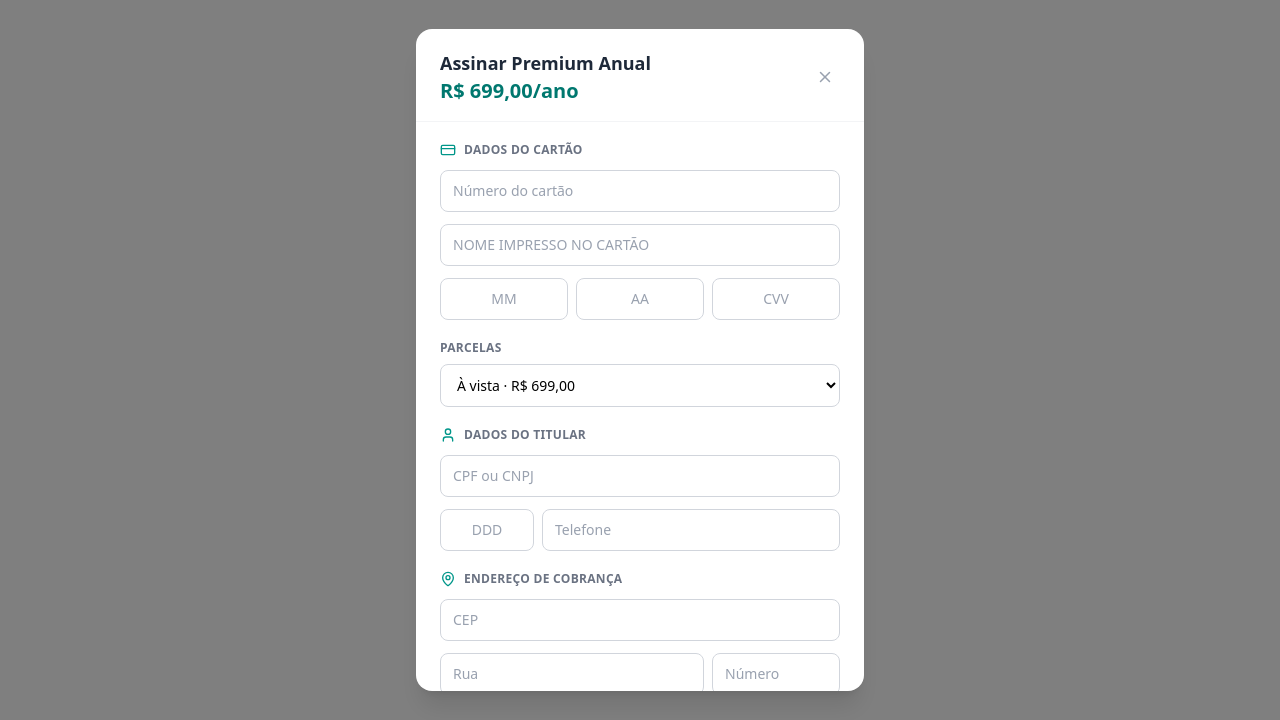
Test: Formulário de pagamento › CEP completo preenche o endereço sozinho
Type "01001000" into the field with placeholder "CEP" at (640, 620), box [440,599,840,641]
(page scrolled)
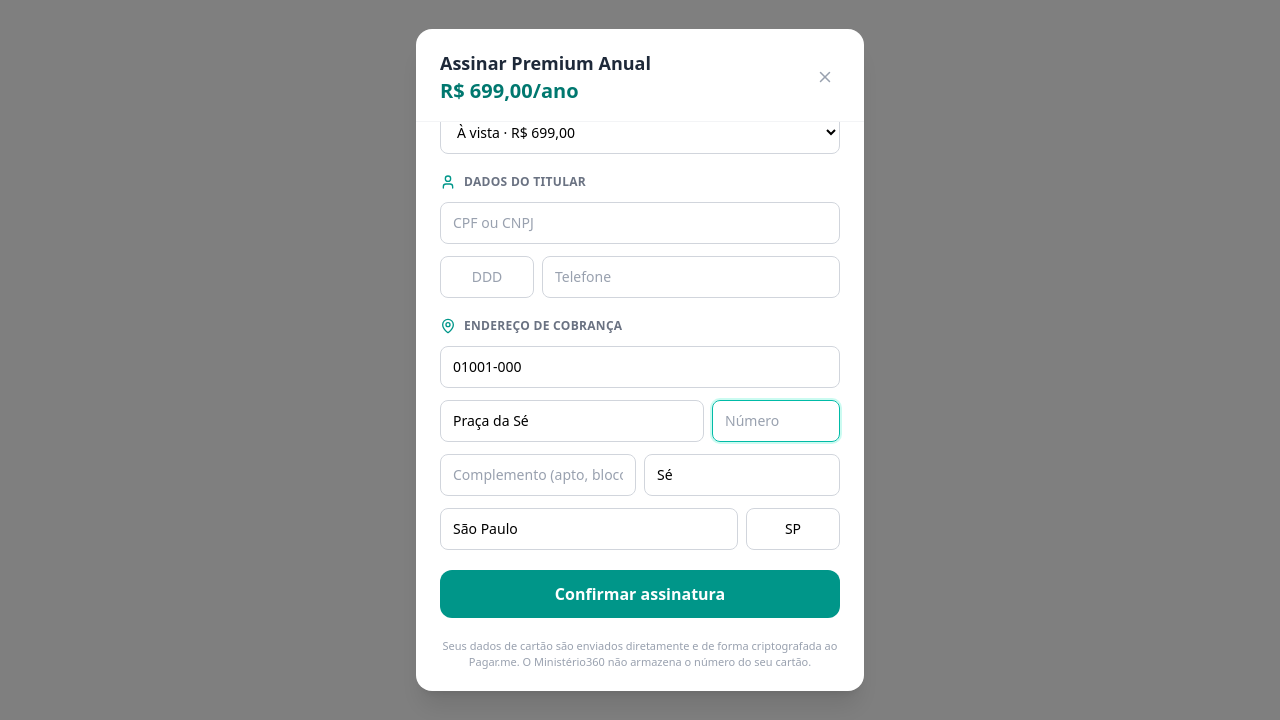
Expected: the 1st field with placeholder "CEP" holds "01001-000", [440,346,840,388]
Expected: the 2nd field with placeholder "Rua" holds "Praça da Sé", [440,400,704,442]
Expected: the 3rd field with placeholder "Bairro" holds "Sé", [644,454,840,496]
